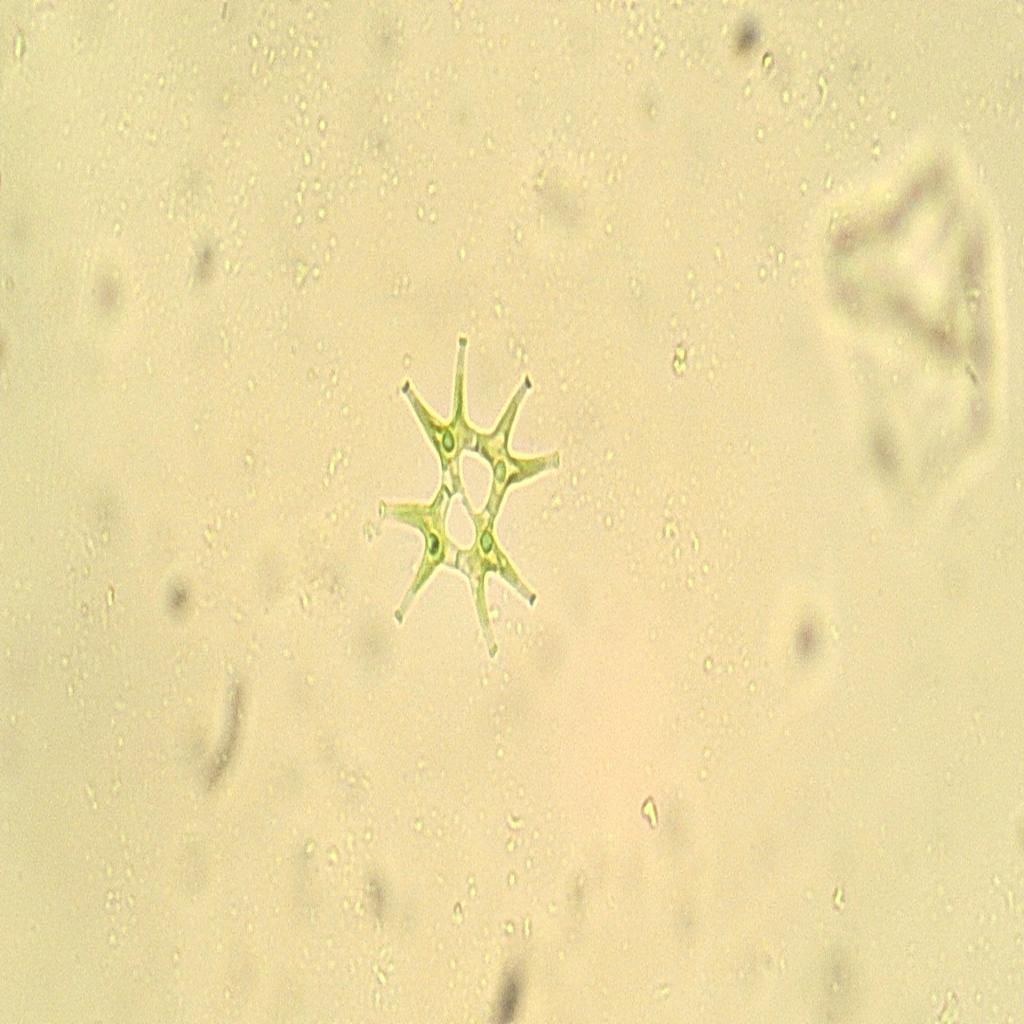Pediastrum_CF: (364, 322, 593, 670)
